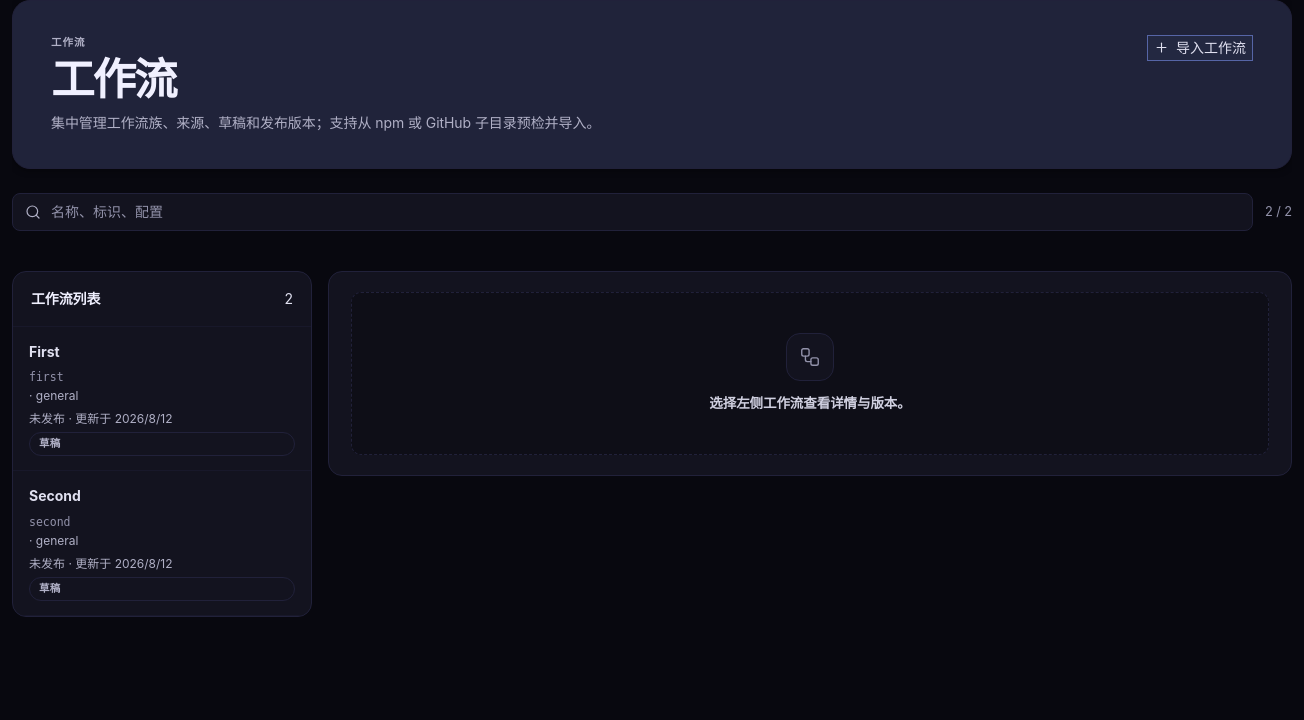
Test case: workflow source import UI › ignores an older family-detail response after selecting another family
The width and height of the screenshot is (1304, 720).
Click the button "First first · general 未发布 · 更新于 2026/8/12 草稿": point(44, 351) [13, 326, 311, 472]
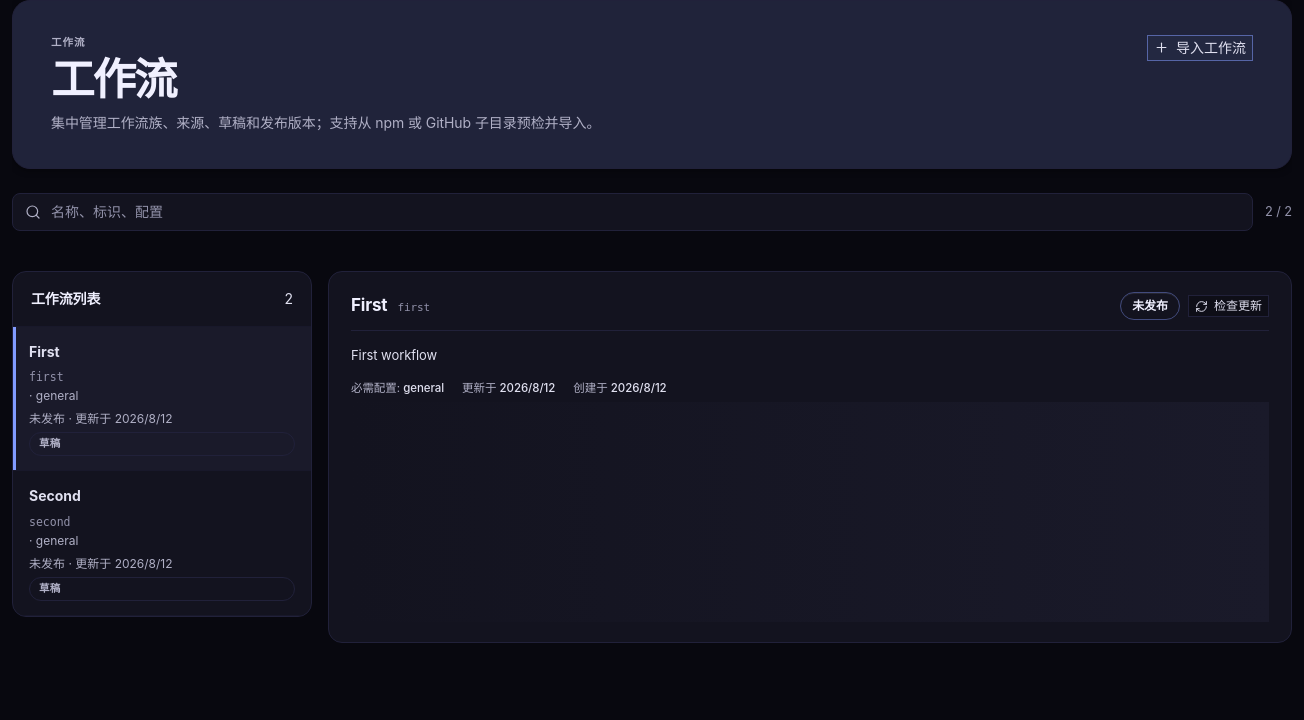
Click the button "Second second · general 未发布 · 更新于 2026/8/12 草稿": point(55, 496) [13, 472, 311, 616]
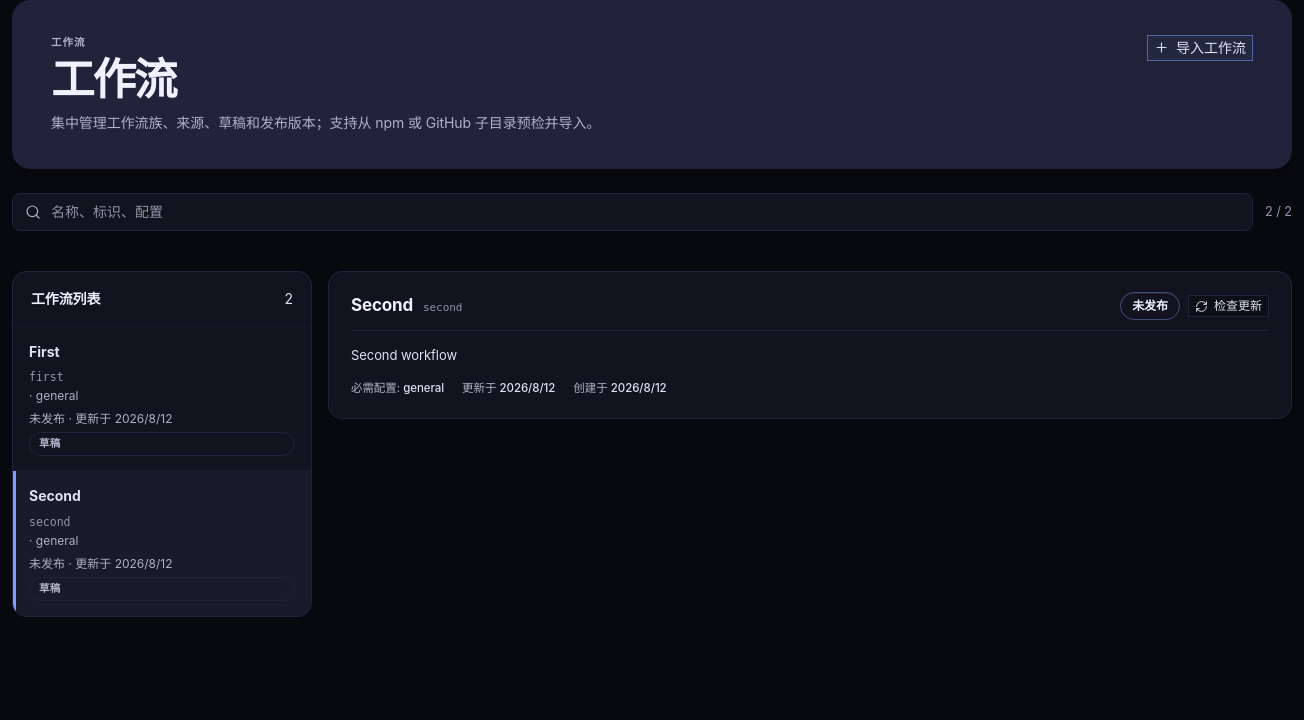
Check: the heading "Second" is shown, box [351, 292, 413, 318]
